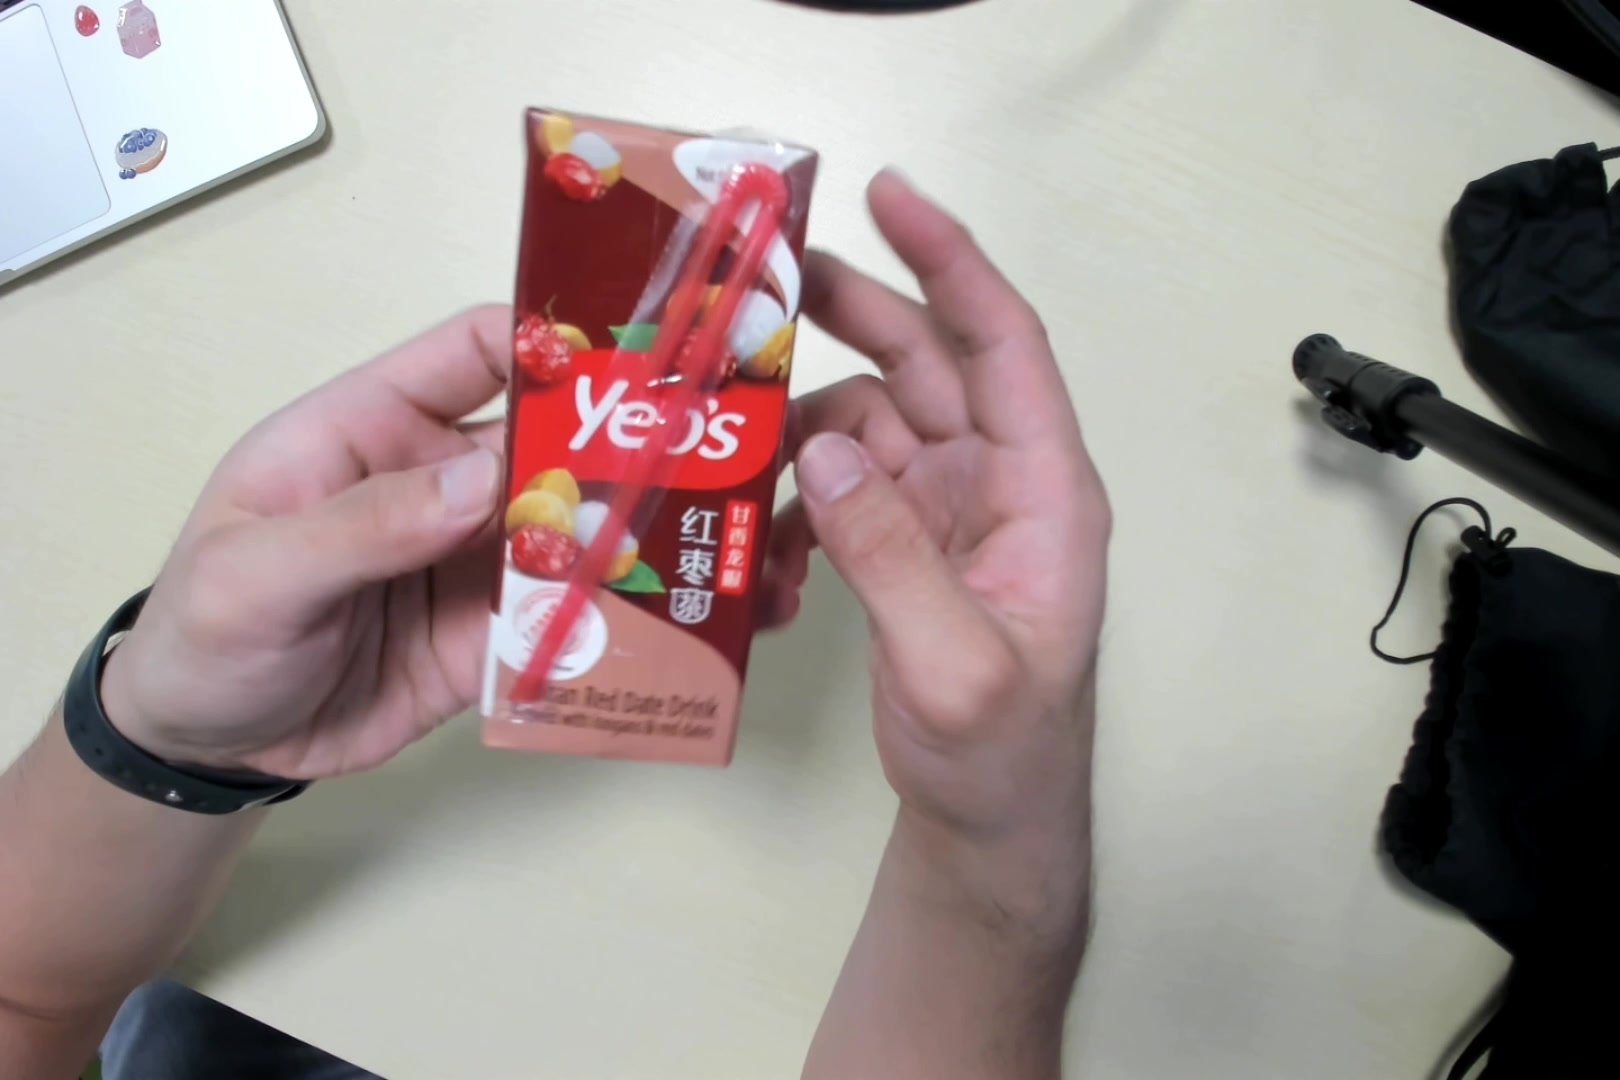TeaDrink_200-299g_Halal_Healthy: (483, 101, 818, 777)
